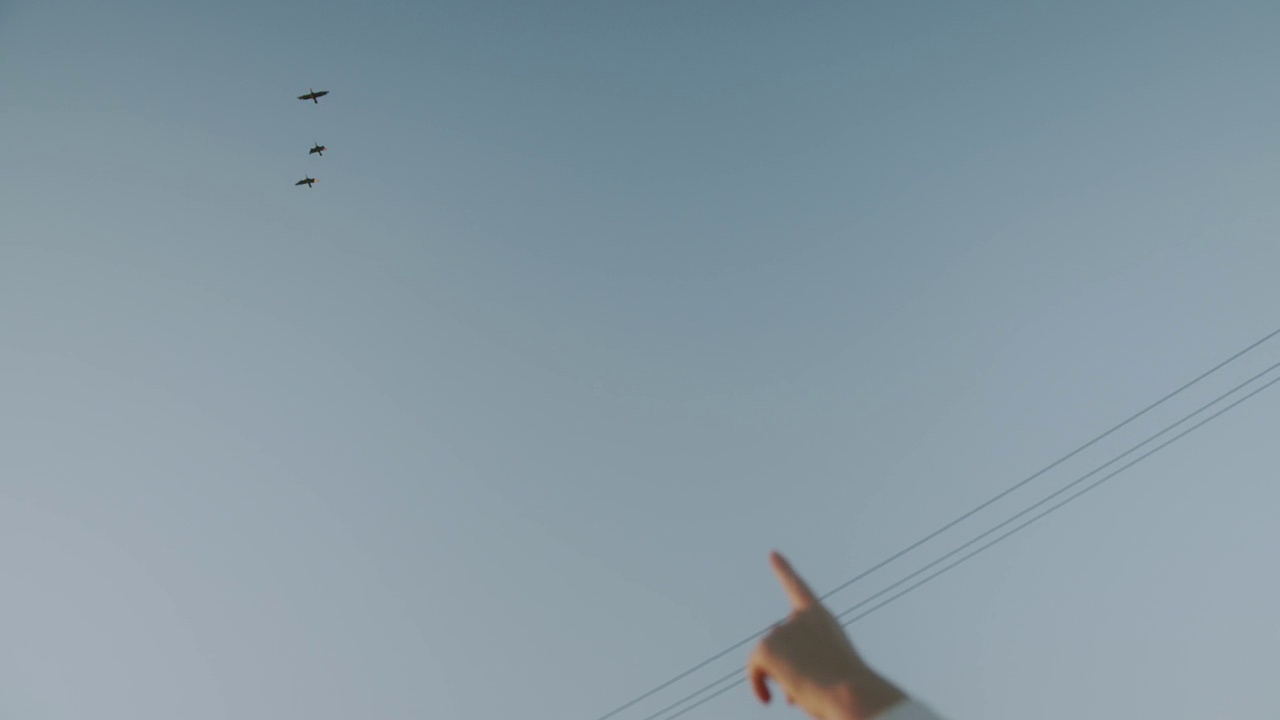bird: (298, 88, 329, 105), (307, 140, 326, 156), (294, 173, 317, 186)
